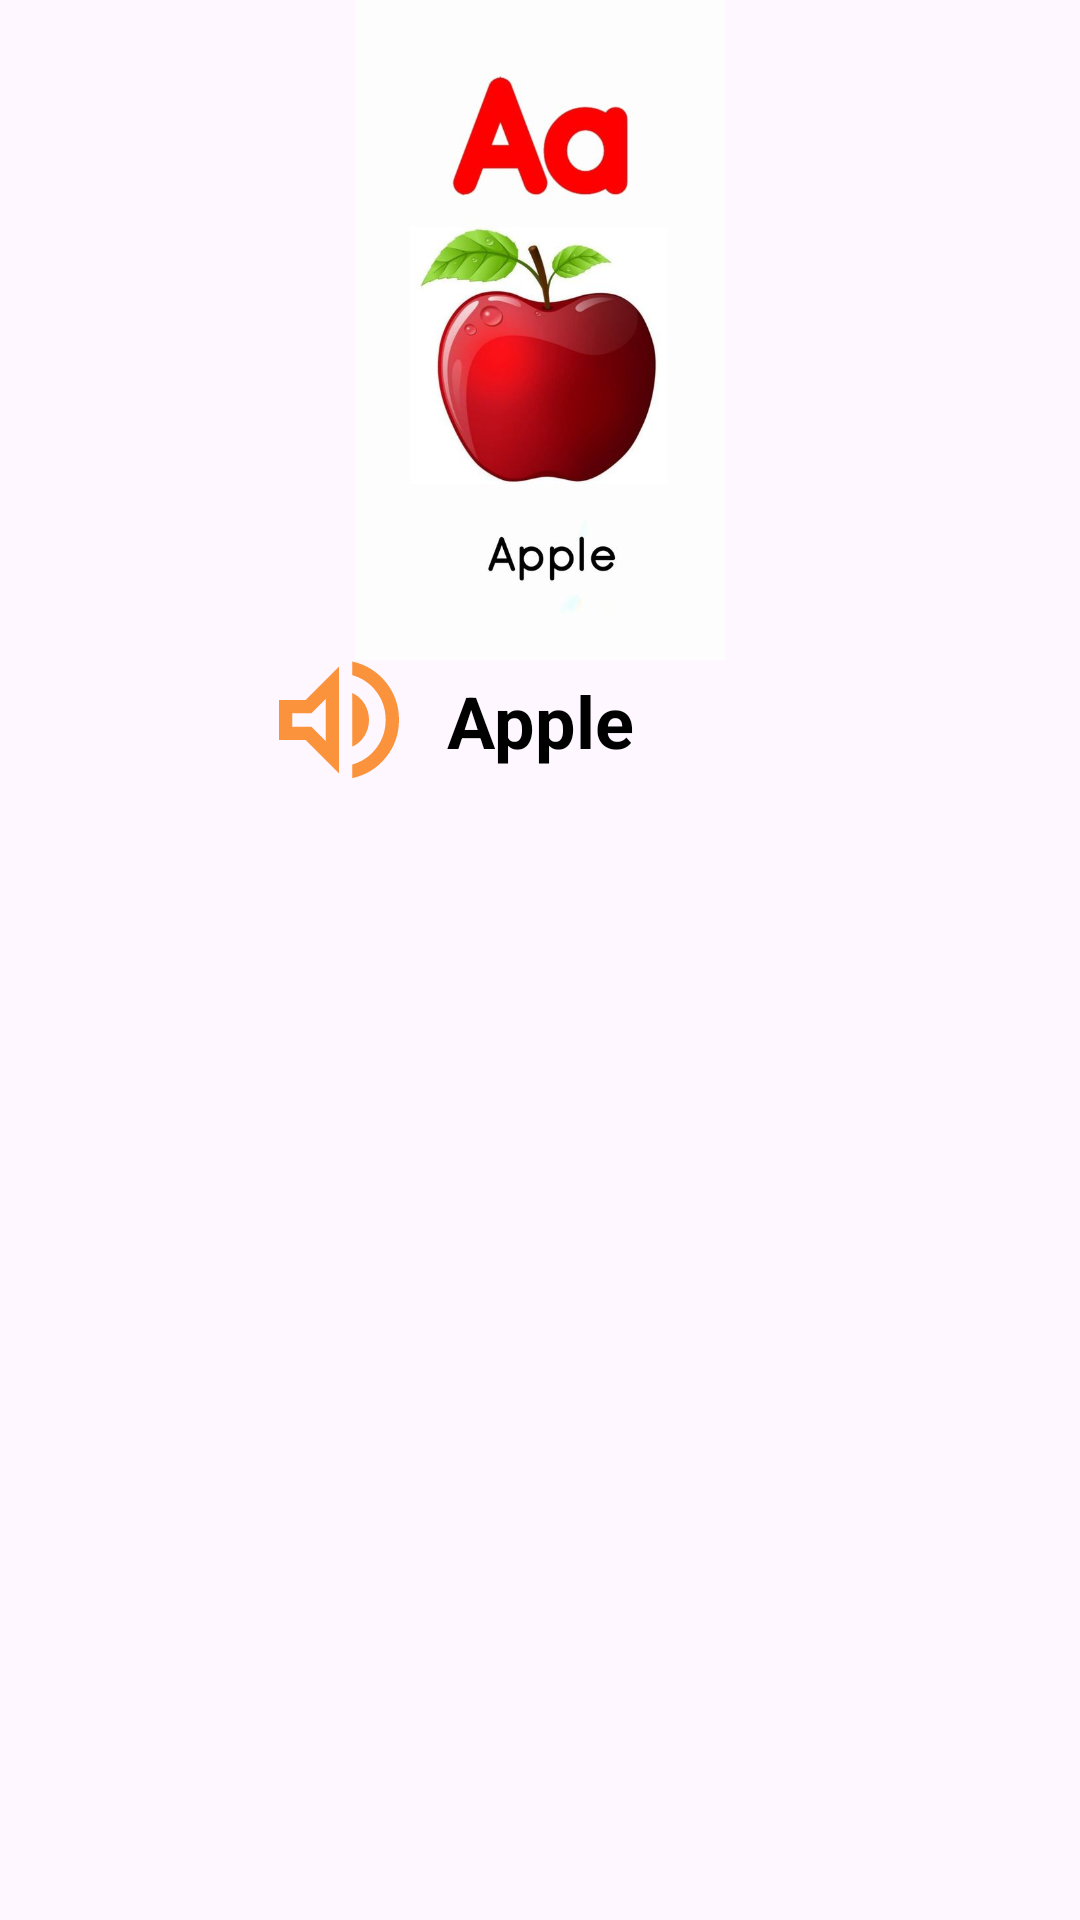

Where to tap for icons on this 1080px×1920px app screen, as point (x, y):
volume up: point (339, 719)
